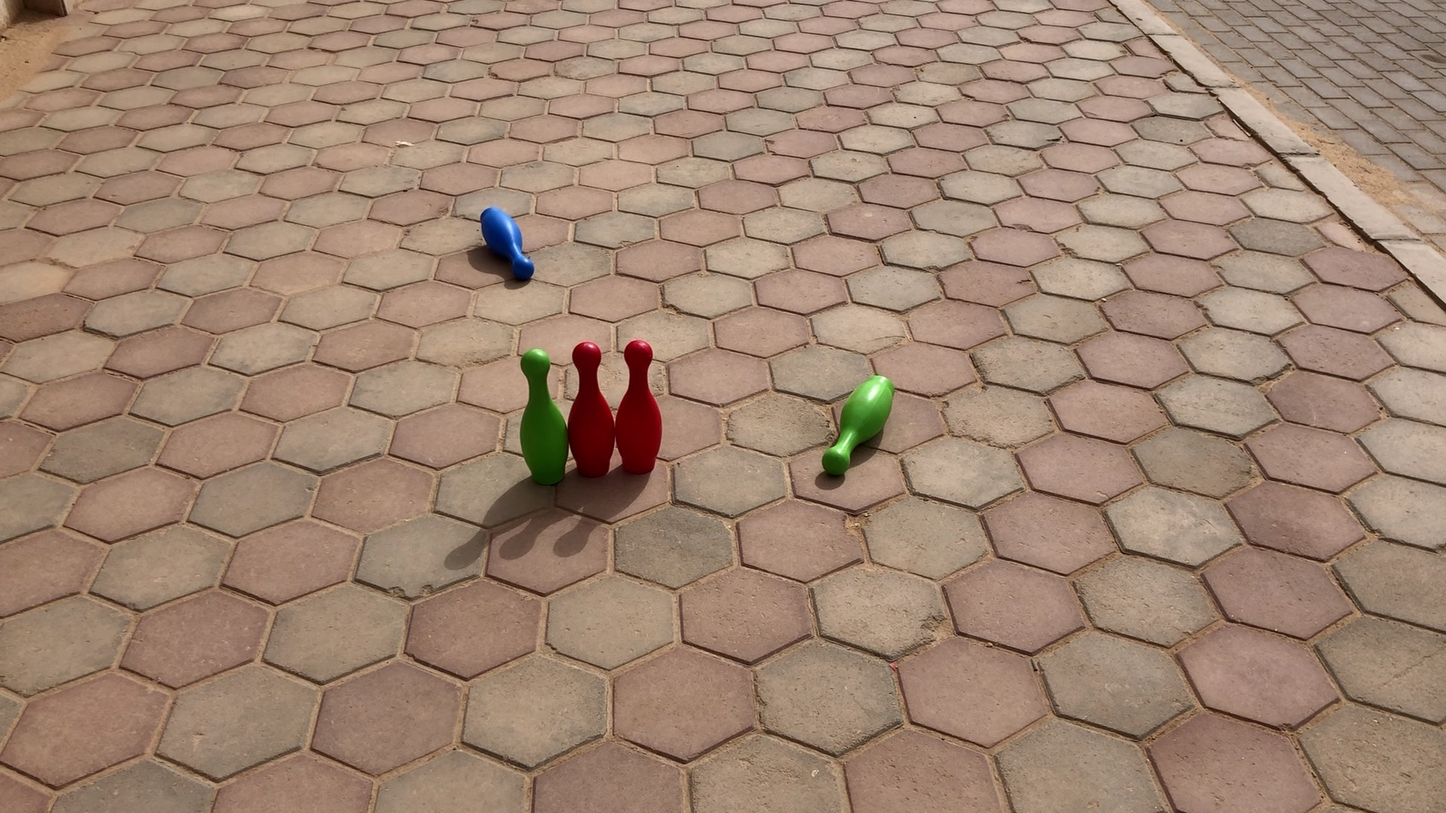bowling-pin: (821, 376, 891, 477), (521, 346, 570, 481), (571, 343, 615, 477), (618, 341, 662, 473), (480, 206, 535, 281)
